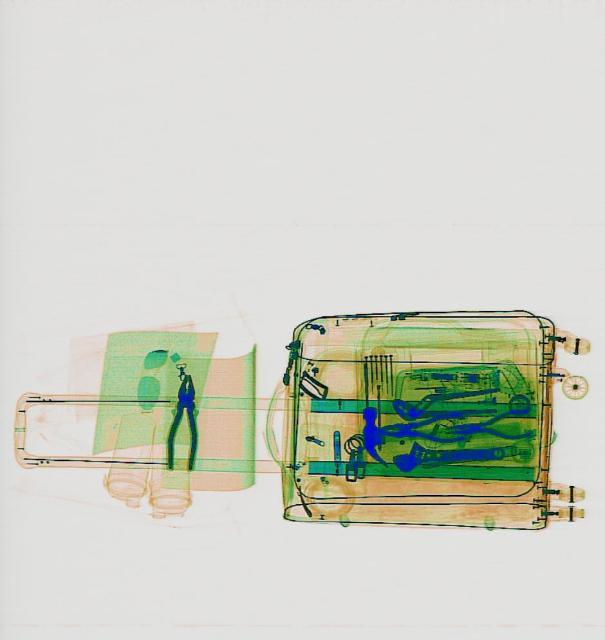Pliers: (163, 373, 201, 472), (444, 406, 531, 444), (381, 412, 463, 442)
Wrench: (390, 437, 503, 471)
